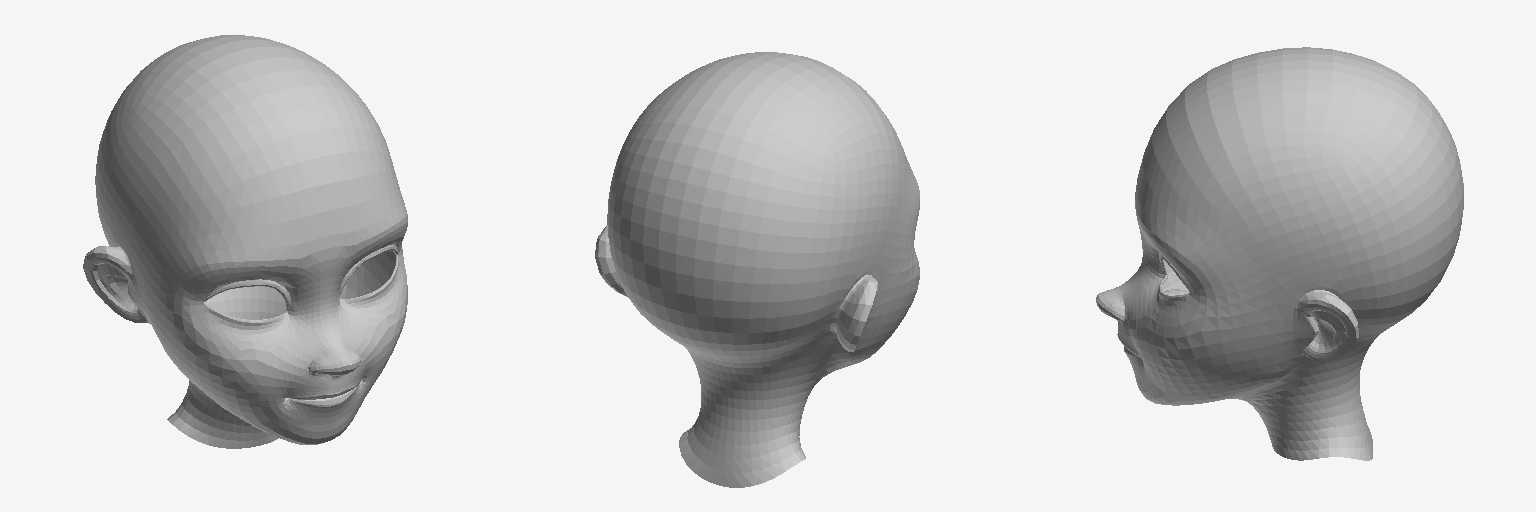
Rendered from neutral.obj.
3 views of the same model, side by side, from view 1: azimuth 30°, elevation 25°; view 2: azimuth 150°, elevation 25°; view 3: azimuth 270°, elevation 25° (orthographic).
Bounding box in the file's own units: 23.75 × 32.31 × 27.53.